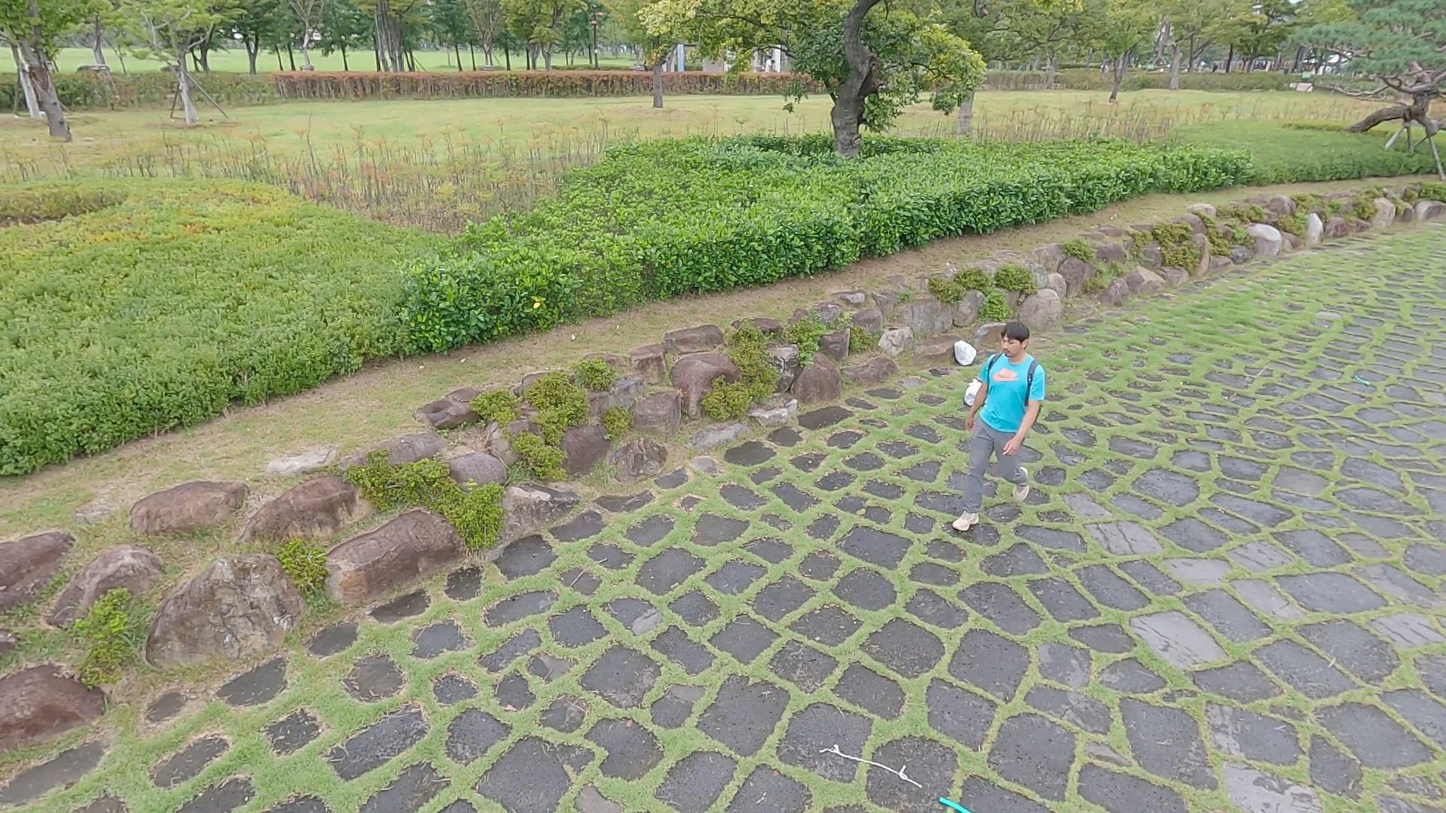person: (951, 321, 1048, 533)
trash: (964, 377, 992, 405), (954, 338, 978, 366)
